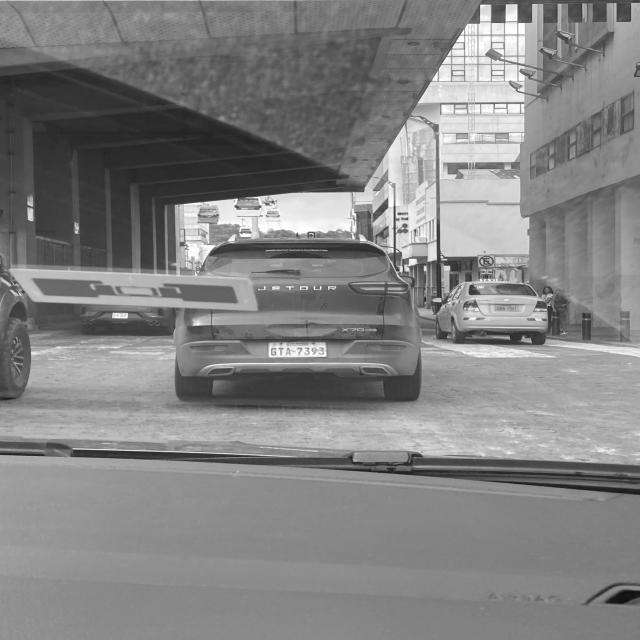Placa: (268, 342, 326, 357), (496, 305, 518, 311), (112, 313, 128, 319)
